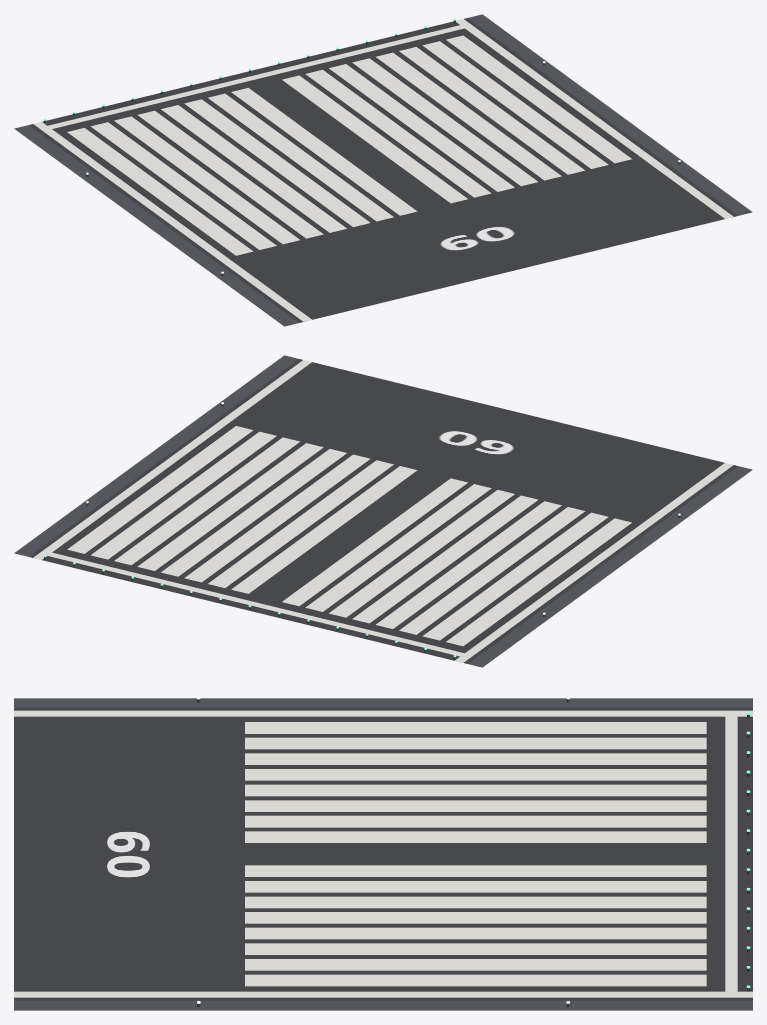
The model's file is pista-cabeceira.glb.
3 views of the same model, one above another, from view 1: azimuth 30°, elevation 25°; view 2: azimuth 150°, elevation 25°; view 3: azimuth 270°, elevation 25° (orthographic). The views are drawn at different scales.
Parts seen in each view (by area): view 1: Paredes, Molduras, Letreiro; view 2: Paredes, Molduras, Letreiro; view 3: Paredes, Molduras, Letreiro.
Boxes of the visible parts, left/top/right/bottom form: Paredes: left=14, top=14, right=752, bottom=326; Molduras: left=33, top=19, right=733, bottom=321; Letreiro: left=399, top=203, right=553, bottom=273; Paredes: left=14, top=355, right=752, bottom=667; Molduras: left=33, top=360, right=733, bottom=662; Letreiro: left=399, top=408, right=553, bottom=478; Paredes: left=14, top=698, right=752, bottom=1010; Molduras: left=14, top=710, right=752, bottom=997; Letreiro: left=37, top=825, right=221, bottom=883.
Bounding box in the file's own units: 48 × 0.35 × 48.
Materials: 7 (1 with a texture image).
